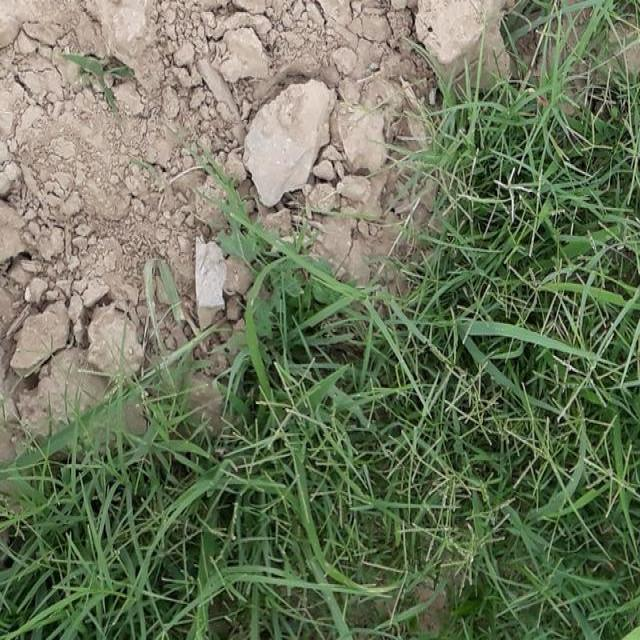weed: (30, 374, 640, 635), (421, 0, 627, 357)
